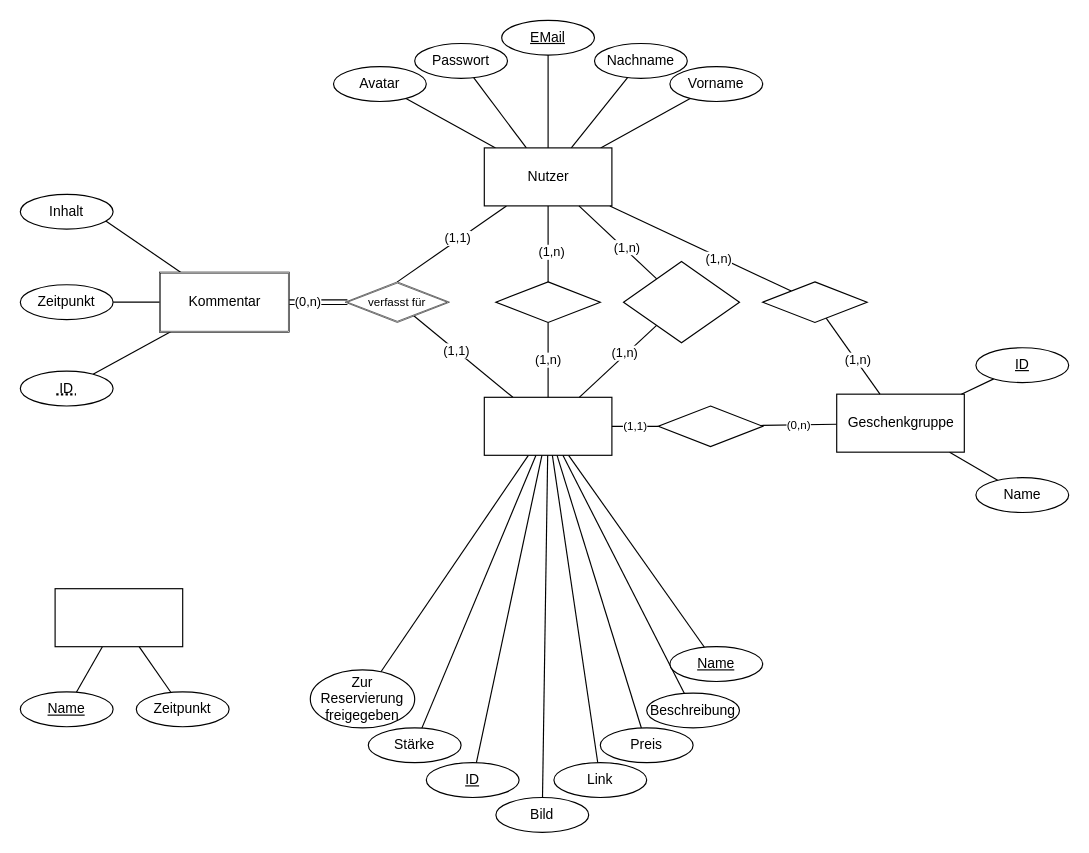
This 1089x853 diagram has some shape labels left out. Each missing label, with the centre of its shape:
Event: the point at 118,617
gehört zu: the point at 710,426
Geschenk: the point at 547,425
hat reserviert: the point at 547,301
Ist beschenkter: the point at 814,301
Reservations-Freigebung angefragt: the point at 681,301
